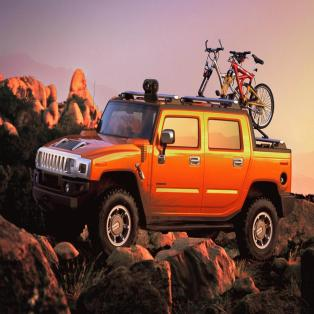Auto: (33, 79, 292, 259)
